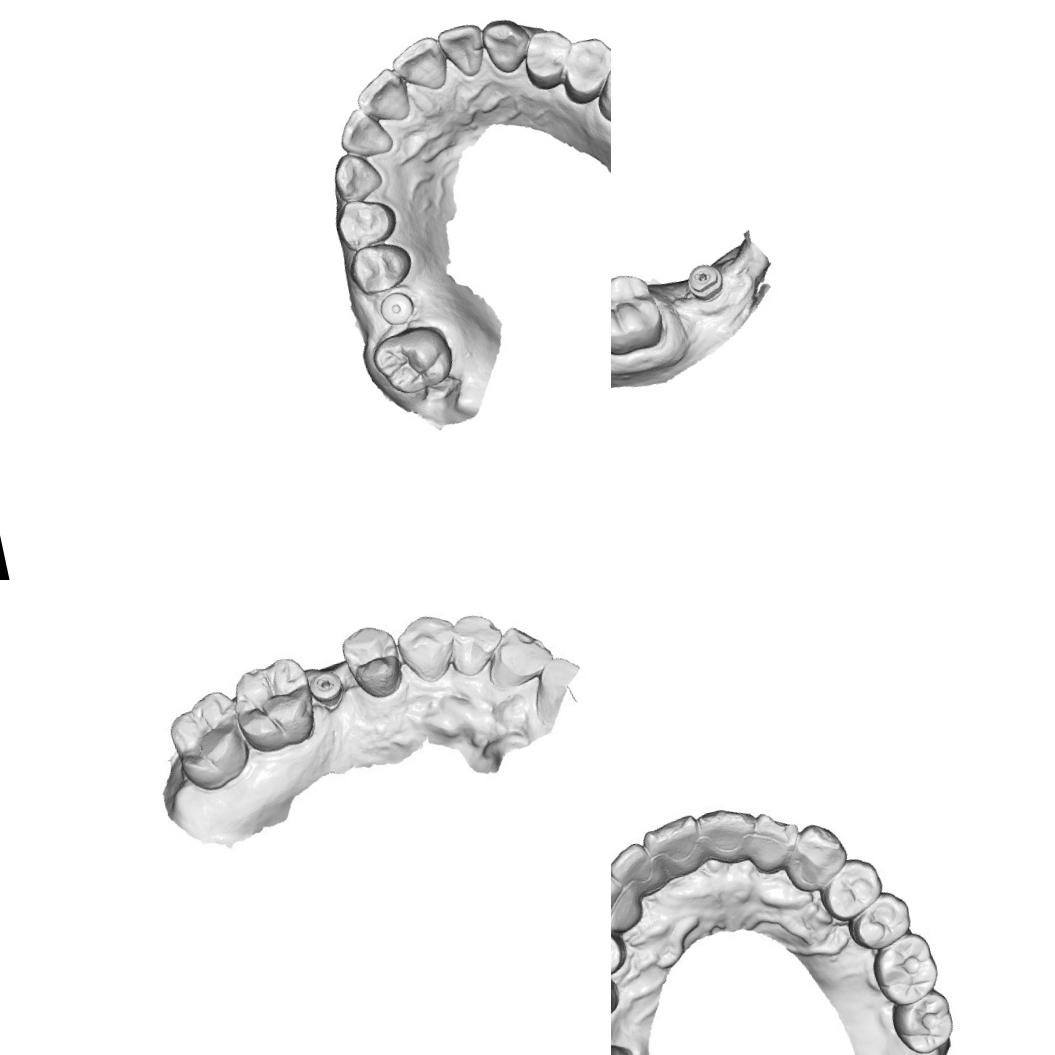canine: (388, 603, 464, 694), (782, 816, 856, 896), (478, 13, 536, 78), (327, 148, 387, 207), (611, 864, 644, 941)
implant: (374, 289, 418, 330)
implant_minus: (683, 259, 728, 306), (308, 666, 350, 710)
incisor: (479, 618, 562, 698), (638, 811, 712, 886), (442, 605, 508, 681), (694, 797, 762, 869), (740, 806, 806, 880), (386, 33, 452, 99), (351, 65, 414, 130), (333, 102, 393, 162), (435, 20, 491, 83), (611, 837, 663, 904)
molar: (162, 685, 259, 798), (225, 646, 320, 760), (366, 319, 460, 402), (864, 926, 944, 1011), (881, 985, 961, 1055), (611, 267, 668, 362), (588, 45, 611, 144)
premolar: (336, 618, 410, 706), (814, 853, 890, 928), (840, 887, 918, 960), (343, 238, 416, 300), (330, 192, 402, 253), (518, 24, 580, 94), (554, 31, 611, 107), (611, 916, 631, 988), (611, 960, 629, 1039)
